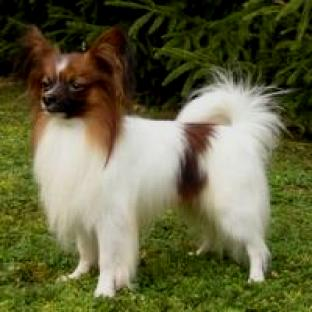Animal: (20, 27, 282, 296)
